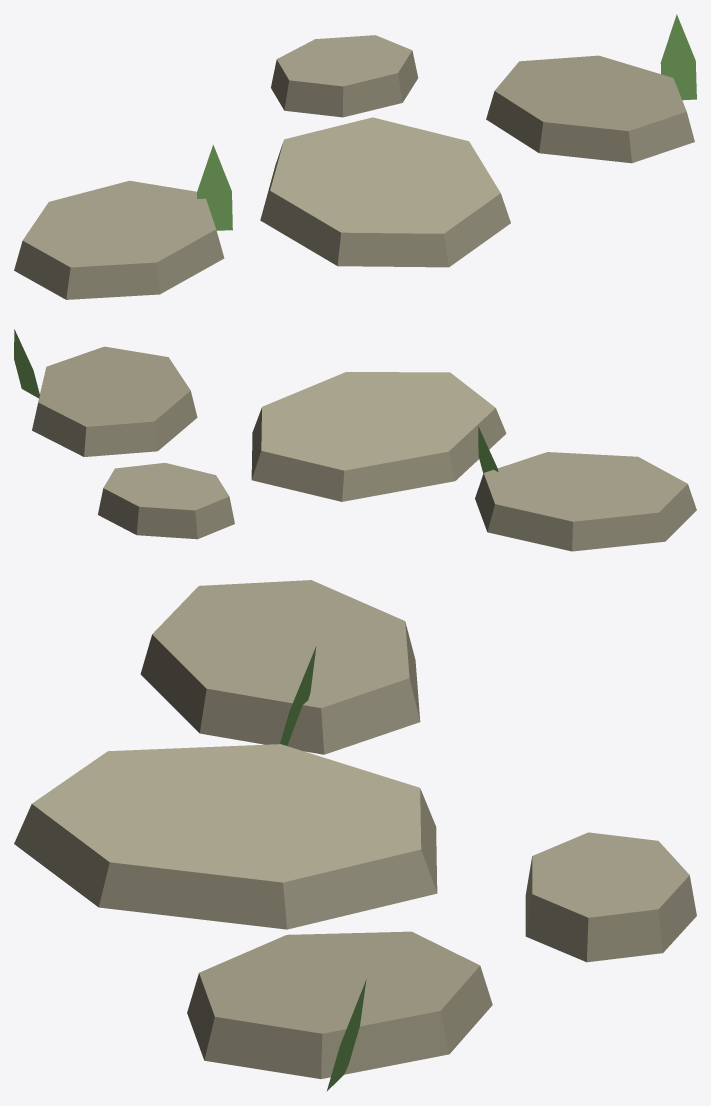
The model's file is gc_pathstones_b.glb.
3 views of the same model, one above another, from view 1: azimuth 30°, elevation 25°; view 2: azimuth 150°, elevation 25°; view 3: azimuth 270°, elevation 25° (orthographic). The views are drawn at different scales.
Visible parts, largest first — view 1: body, body_nh; view 2: body, body_nh; view 3: body, body_nh.
Boxes of the visible parts, x1=… form: body: x1=14, y1=35, x2=694, y2=299; body_nh: x1=197, y1=14, x2=696, y2=230; body: x1=32, y1=346, x2=696, y2=551; body_nh: x1=14, y1=329, x2=498, y2=473; body: x1=14, y1=580, x2=696, y2=1078; body_nh: x1=280, y1=646, x2=366, y2=1091.
Size of the model in its own units: 1.13 by 0.12 by 0.6821.
